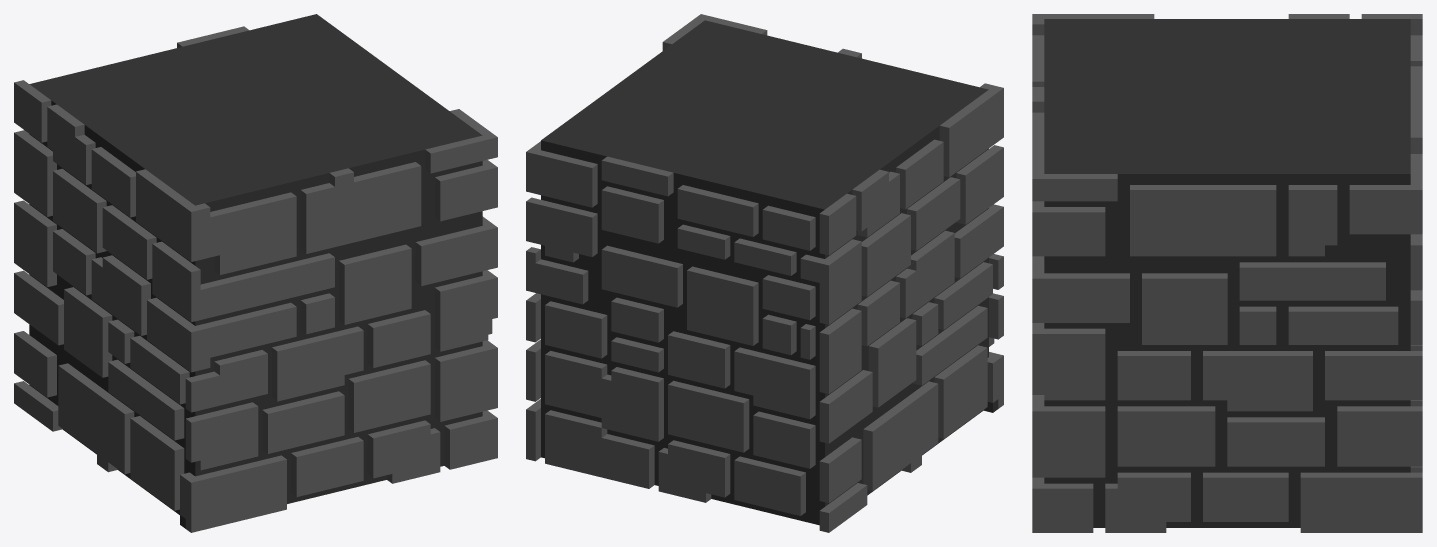
The model's file is BrickWall.obj.
3 renders of one model, left to right at view 1: azimuth 30°, elevation 25°; view 2: azimuth 150°, elevation 25°; view 3: azimuth 270°, elevation 25°, orthographic. The views are drawn at different scales.
Bounding box in the file's own units: 3.2 × 3.2 × 3.2.
Materials: 1 (1 with a texture image).
